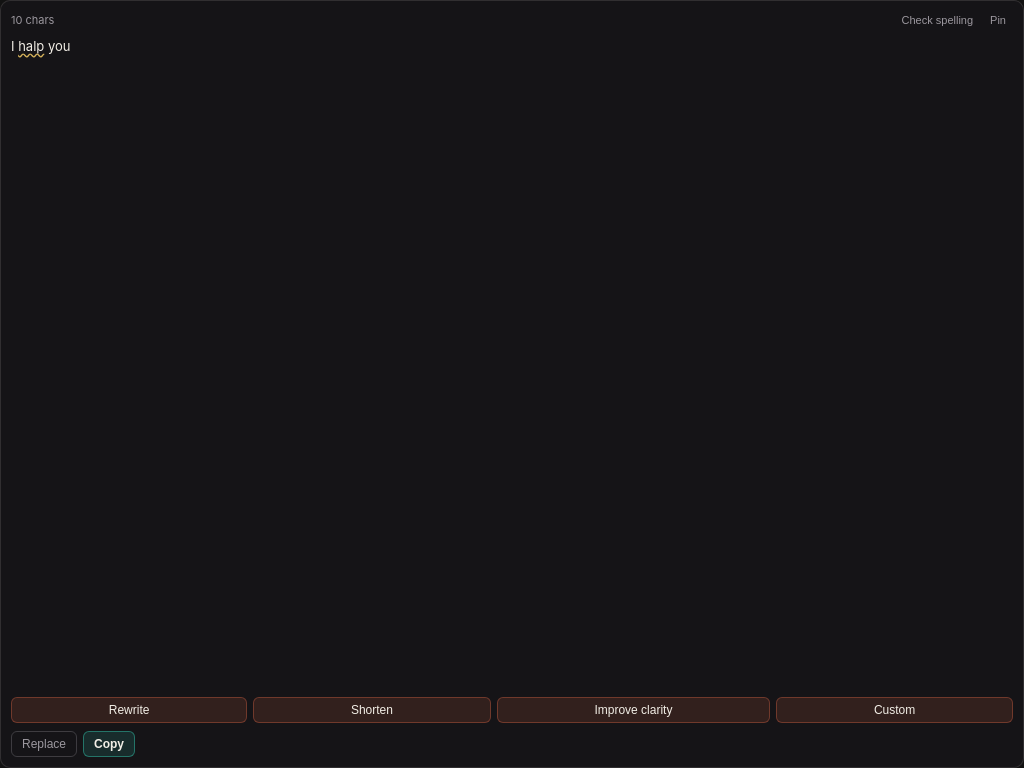
Scenario: popover App › clicking a mark shows the suggestion popup and applying a suggestion corrects the text
This screenshot has width=1024, height=768.
What coordinates should you click on to do the following:
click the text with class "mark"
I would click on:
 (31, 46)
Its box is [18,38,44,54].
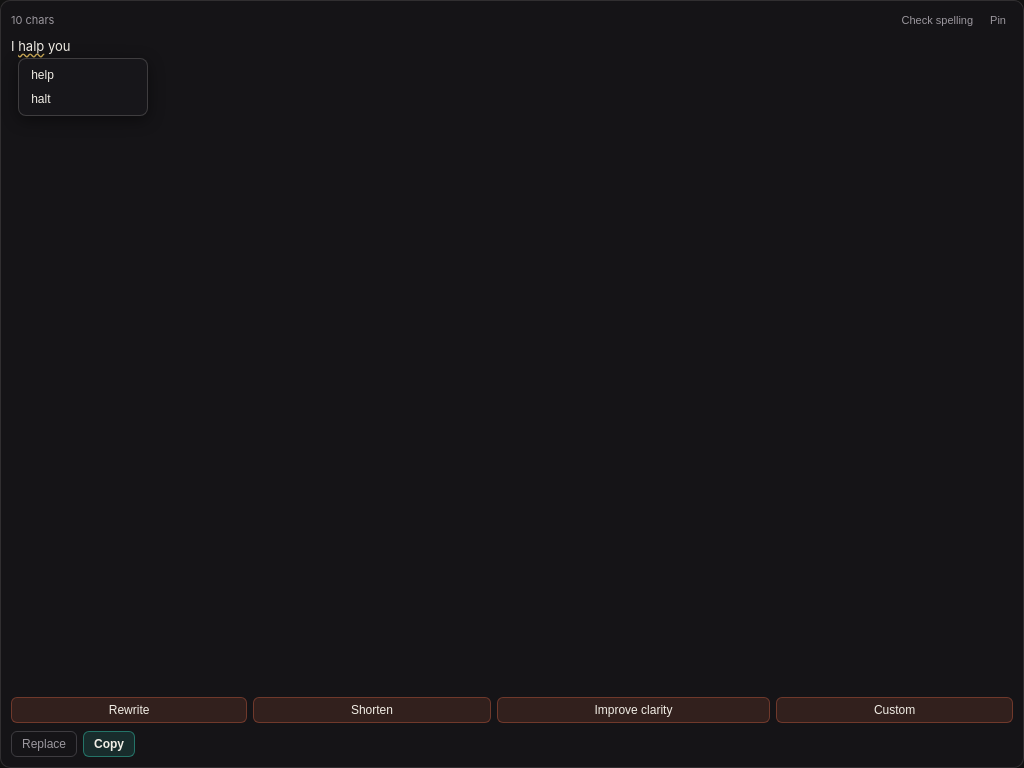
Expected: the button "halt" is shown, [23,87,143,111]
What coordinates should you click on to do the following:
click the button "help"
I would click on:
 (83, 75)
Its box is [23,63,143,87].
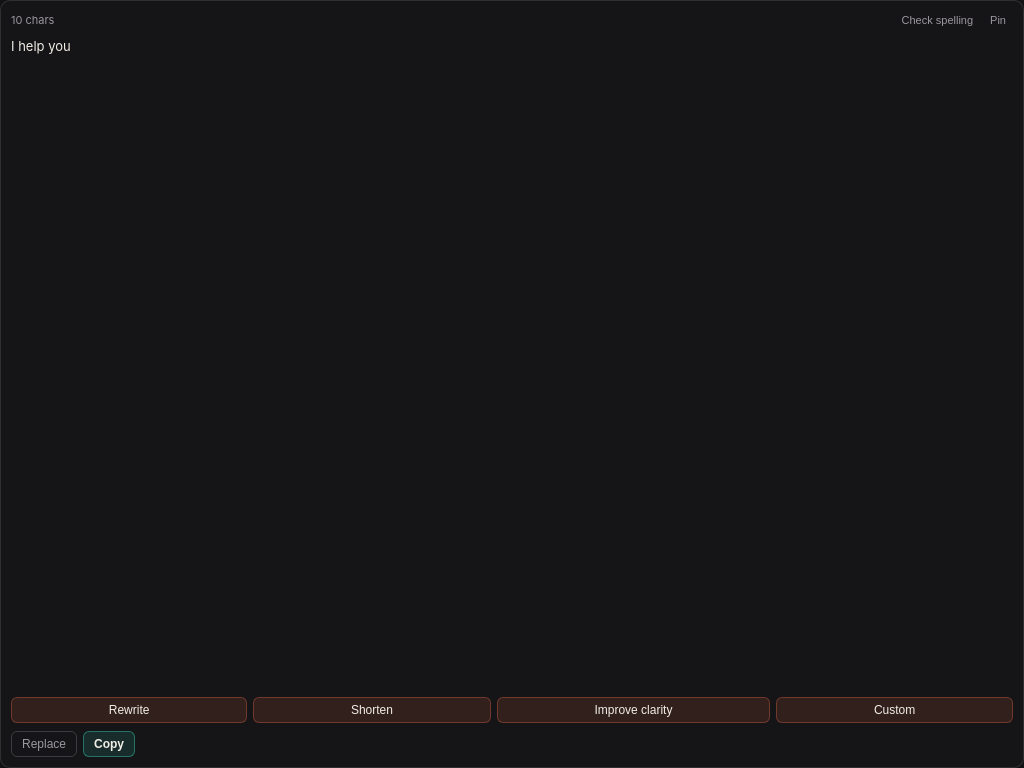
Expected: the text box holds "I help you"
